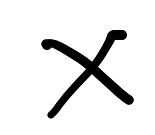mult: (41, 29, 135, 118)
